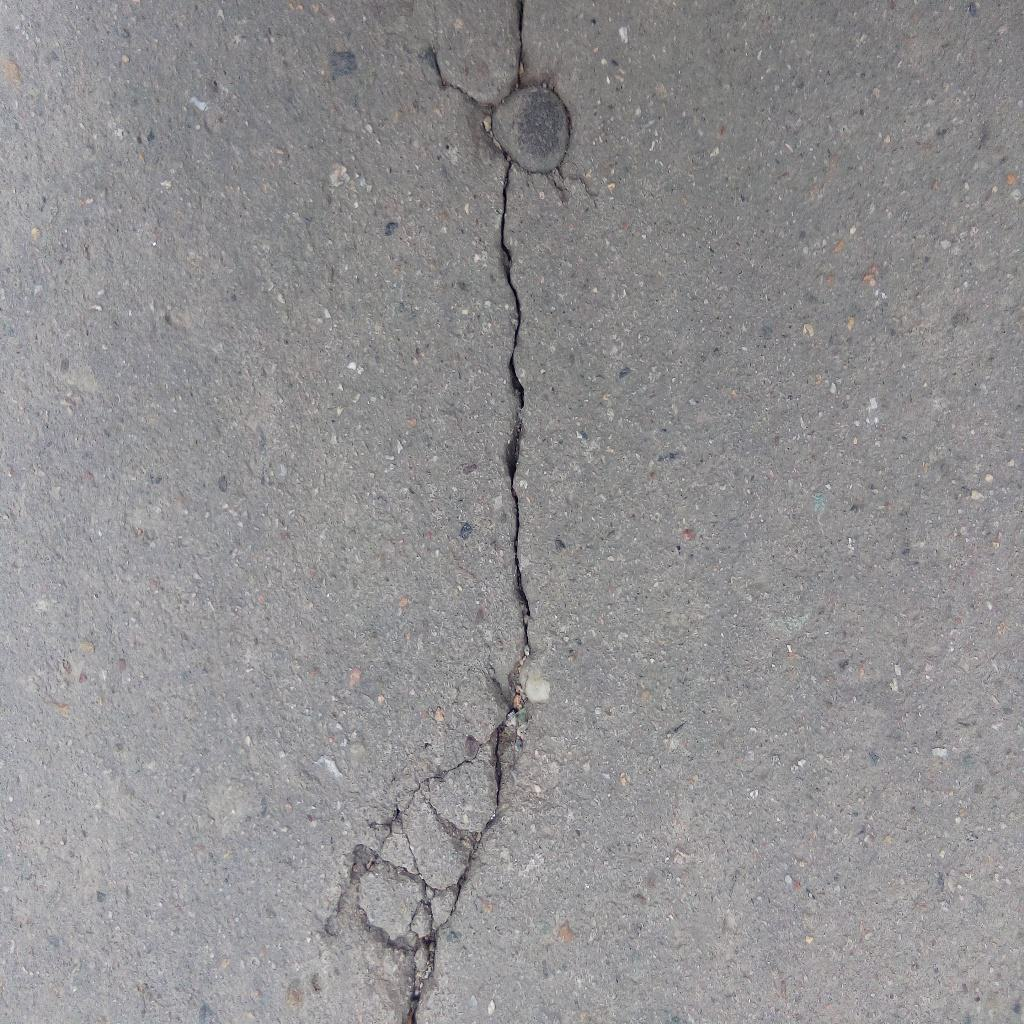Crack: (324, 1, 568, 1024)
